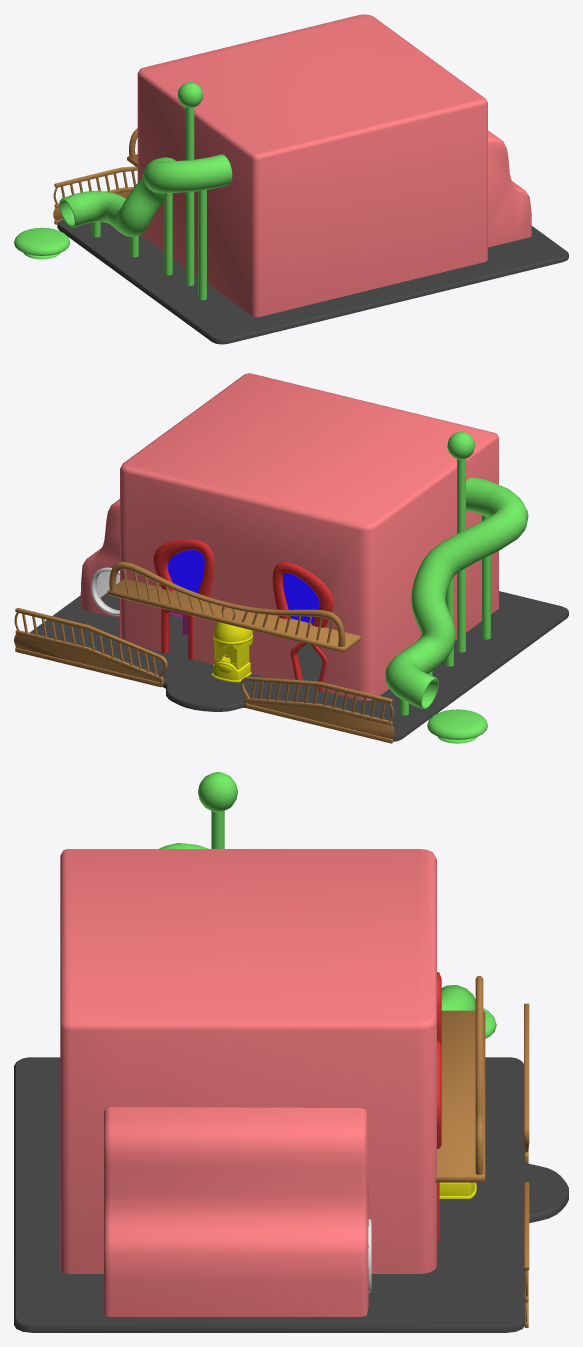
The model's file is Props_Laugh Palace.fbx.
3 views of the same model, one above another, from view 1: azimuth 30°, elevation 25°; view 2: azimuth 150°, elevation 25°; view 3: azimuth 270°, elevation 25° (orthographic). The views are drawn at different scales.
Parts seen in each view (by area): view 1: PalaisDuRireEXT.Low, Sol, Toboggan, PalaisDuRireAnnexeEXT.Low, PoufSauteur, RambardeBas1; view 2: PalaisDuRireEXT.Low, Sol, Toboggan, RambardeHaute, RambardeBas2, RambardeBas1, PorteEtEscalier, Sol2, PalaisDuRireAnnexeEXT.Low, PoufSauteur, Cabine.Low, Bandelette.Low; view 3: PalaisDuRireEXT.Low, PalaisDuRireAnnexeEXT.Low, Sol, RambardeHaute, Toboggan, PorteEtEscalier, RambardeBas1, RambardeBas2.
Part boxes in pixels (x1,y1,x2,y2): PalaisDuRireEXT.Low: (137, 14, 487, 316); Sol: (57, 219, 568, 344); Toboggan: (59, 82, 232, 300); PalaisDuRireAnnexeEXT.Low: (488, 130, 531, 247); PoufSauteur: (14, 227, 69, 259); RambardeBas1: (53, 166, 137, 224); PalaisDuRireEXT.Low: (120, 373, 498, 700); Sol: (15, 591, 568, 741); Toboggan: (385, 431, 528, 715); RambardeHaute: (107, 561, 360, 652); RambardeBas2: (14, 608, 167, 687); RambardeBas1: (240, 676, 394, 743); PorteEtEscalier: (153, 539, 333, 691); Sol2: (168, 550, 319, 623); PalaisDuRireAnnexeEXT.Low: (80, 499, 119, 618); PoufSauteur: (427, 709, 487, 743); Cabine.Low: (211, 642, 251, 682); Bandelette.Low: (213, 622, 253, 649); PalaisDuRireEXT.Low: (60, 849, 436, 1273); PalaisDuRireAnnexeEXT.Low: (104, 1107, 368, 1316); Sol: (14, 1057, 568, 1332); RambardeHaute: (435, 976, 485, 1182); Toboggan: (159, 772, 475, 1010); PorteEtEscalier: (437, 972, 441, 1241); RambardeBas1: (523, 1003, 529, 1162); RambardeBas2: (523, 1182, 529, 1327).
Bounding box in the file's own units: 2795 × 1328 × 2092.
